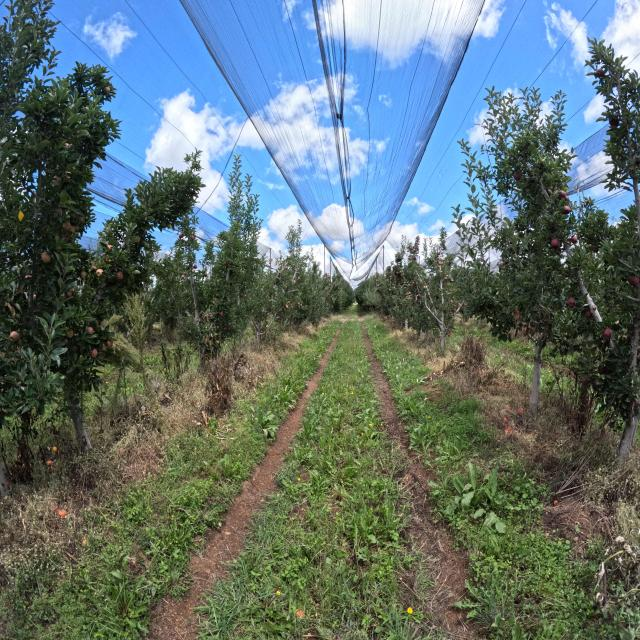-FireBlight-: (511, 301, 555, 341)
